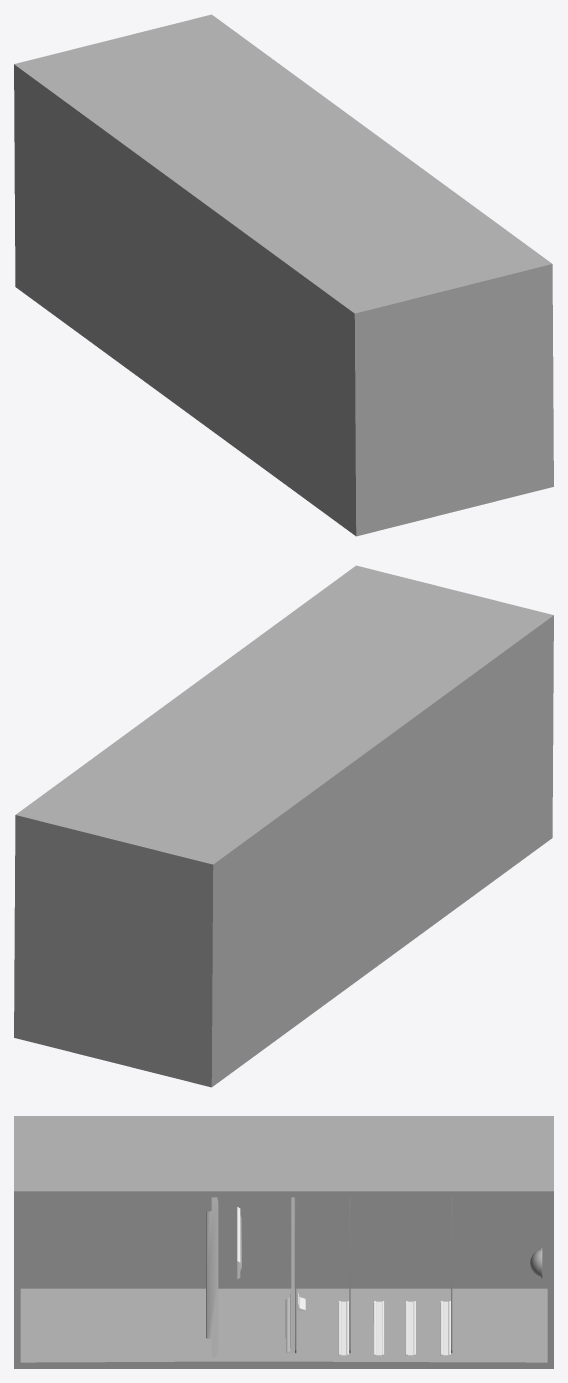
The model's file is body.glb.
The picture shows the model from 3 angles, top to bottom: view 1: azimuth 30°, elevation 25°; view 2: azimuth 150°, elevation 25°; view 3: azimuth 270°, elevation 25°; orthographic projection. The views are drawn at different scales.
Parts seen in each view (by area): view 1: frl_apartment_refrigerator; view 2: frl_apartment_refrigerator; view 3: frl_apartment_refrigerator.
Part boxes in pixels (x1,y1,x2,y2): frl_apartment_refrigerator: (14,14,553,536); frl_apartment_refrigerator: (14,565,553,1087); frl_apartment_refrigerator: (14,1116,553,1368).
Bounding box in the file's own units: 0.647 × 0.6973 × 1.92.
4 materials, 1 textured.
